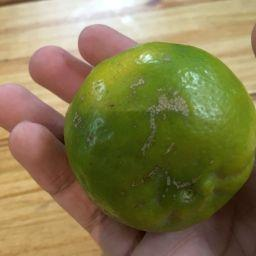Unripe: (66, 45, 255, 230)
